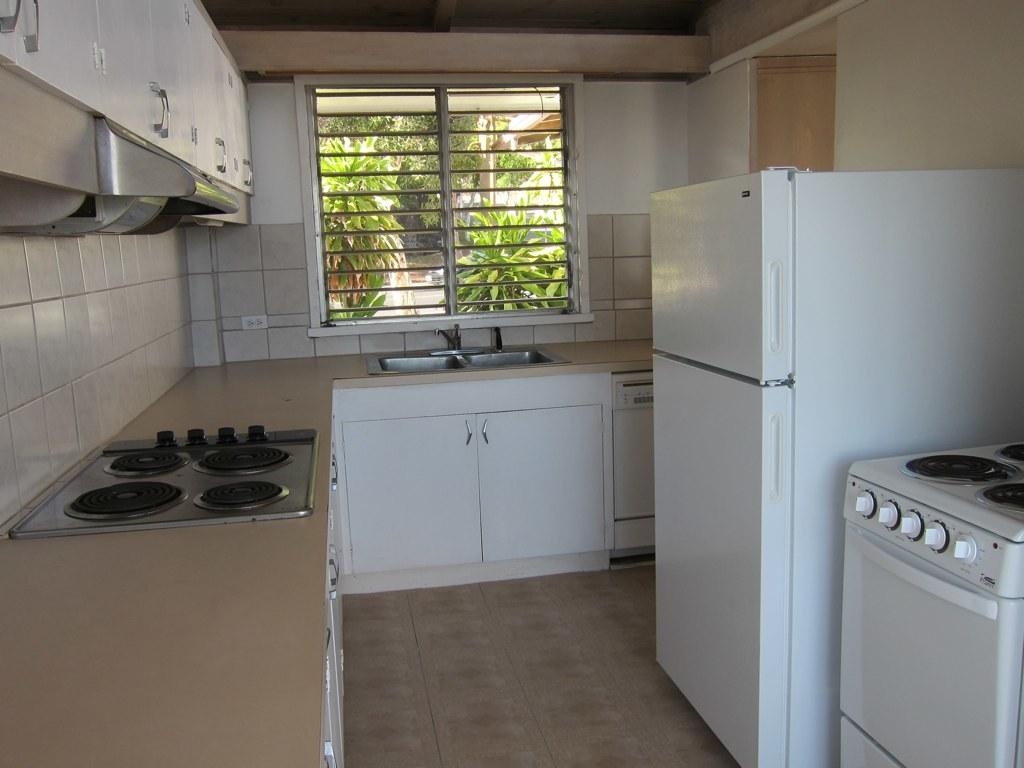cabinet_door: (334, 406, 478, 558), (478, 404, 600, 550), (135, 16, 195, 146), (76, 8, 142, 125), (184, 40, 222, 164), (226, 74, 254, 186)
handle: (854, 530, 1004, 620), (760, 260, 790, 360), (766, 407, 792, 506), (148, 80, 170, 141), (209, 132, 231, 178), (237, 154, 260, 196), (456, 418, 474, 450), (480, 415, 494, 444)
